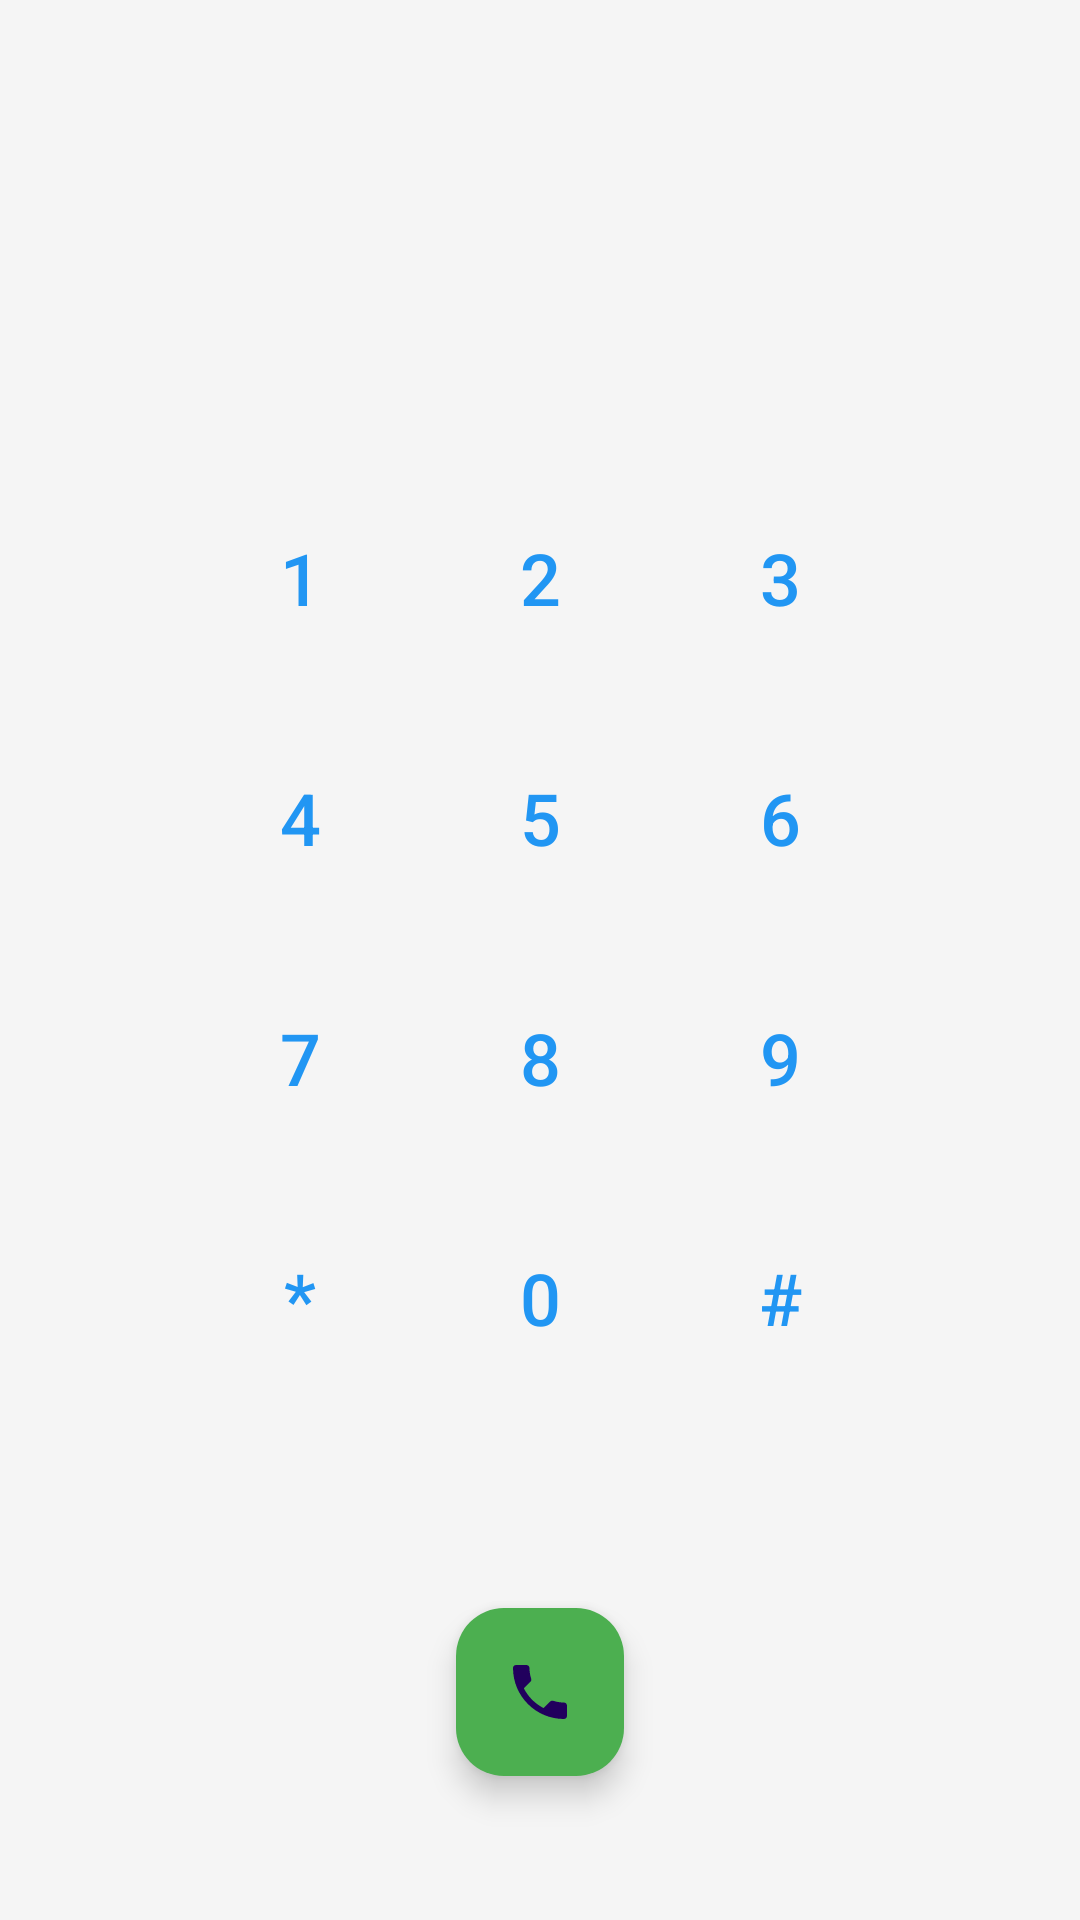

Screen size 1080*1920. Icon name, then its box in pixels as (x1, y1, x2, y2):
call: (456, 1608, 624, 1776)
